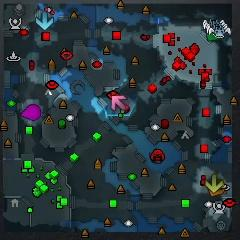p3: (21, 104, 42, 120)
x1: (111, 95, 127, 111)
x2: (204, 173, 223, 192)
x3: (36, 12, 54, 30)
x4: (206, 31, 219, 42)
x5: (208, 186, 224, 197)
